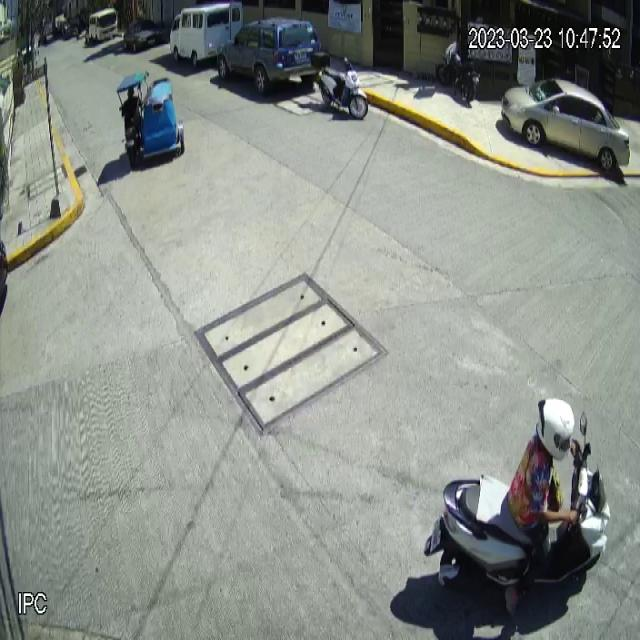Car: (500, 76, 630, 173), (217, 16, 322, 95)
Motorcycle: (422, 410, 612, 592), (311, 51, 368, 120)
Tricycle: (117, 70, 185, 168)
Van: (170, 0, 244, 67)
